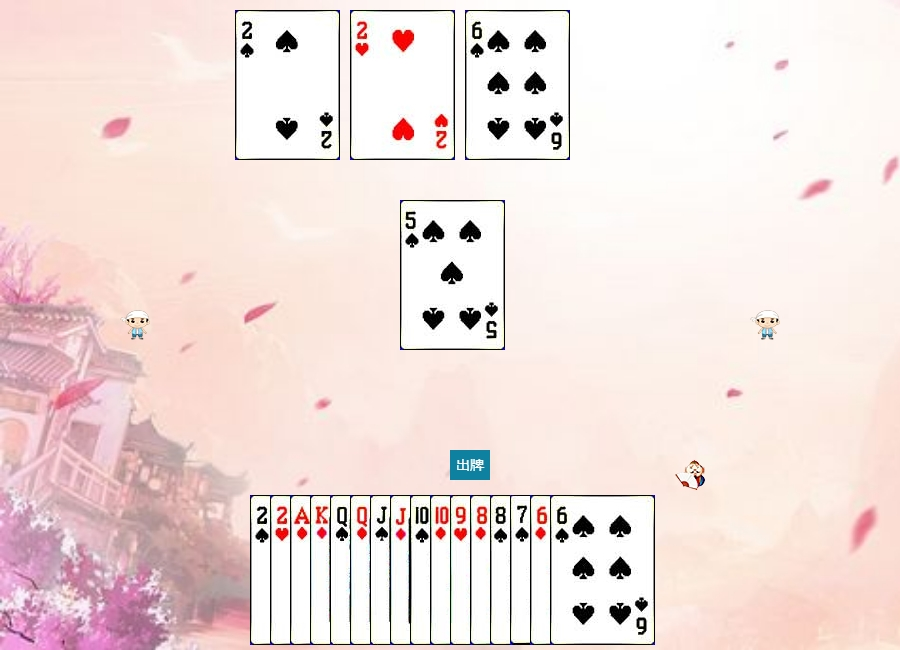10~1: (430, 495, 535, 645)
10~4: (410, 495, 515, 645)
11~1: (390, 495, 495, 645)
11~4: (370, 495, 475, 645)
12~1: (350, 495, 455, 645)
12~4: (330, 495, 435, 645)
13~1: (310, 495, 415, 645)
14~1: (290, 495, 395, 645)
15~3: (350, 10, 455, 160), (270, 495, 375, 645)
15~4: (235, 10, 340, 160), (250, 495, 355, 645)
5~4: (400, 200, 505, 350)
6~1: (530, 495, 635, 645)
6~4: (465, 10, 570, 160), (550, 495, 655, 645)
7~4: (510, 495, 615, 645)
8~1: (470, 495, 575, 645)
8~4: (490, 495, 595, 645)
9~3: (450, 495, 555, 645)
